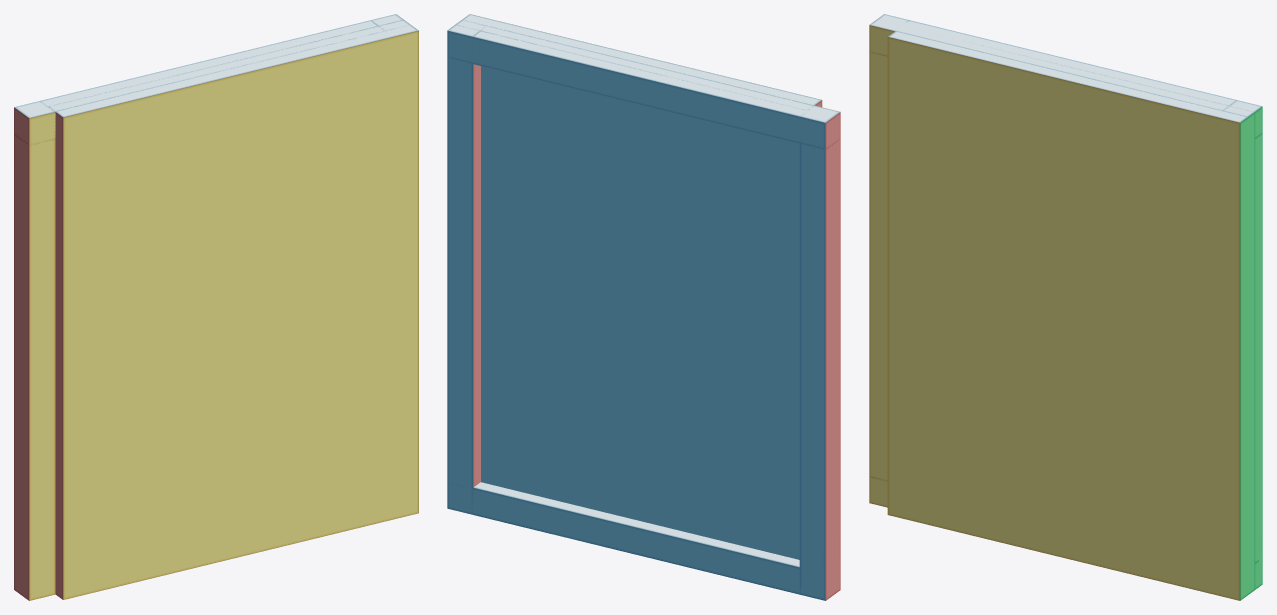
File: frame.obj
3 views of the same model, side by side, from view 1: azimuth 30°, elevation 25°; view 2: azimuth 150°, elevation 25°; view 3: azimuth 330°, elevation 25° (orthographic).
Parts seen in each view (by area): view 1: cube; view 2: cube; view 3: cube.
Boxes of the visible parts, <box> form: cube: <box>14,14,418,600</box>; cube: <box>447,14,840,600</box>; cube: <box>869,14,1262,600</box>.
Size of the model in its own units: 1.81 by 2.19 by 0.1875.
1 material, 1 textured.
